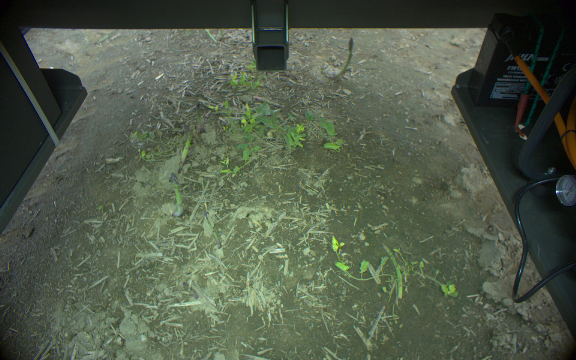aspa: (379, 242, 403, 300), (254, 94, 302, 120), (335, 36, 356, 83), (167, 172, 185, 217), (177, 124, 195, 167), (195, 100, 205, 134)
